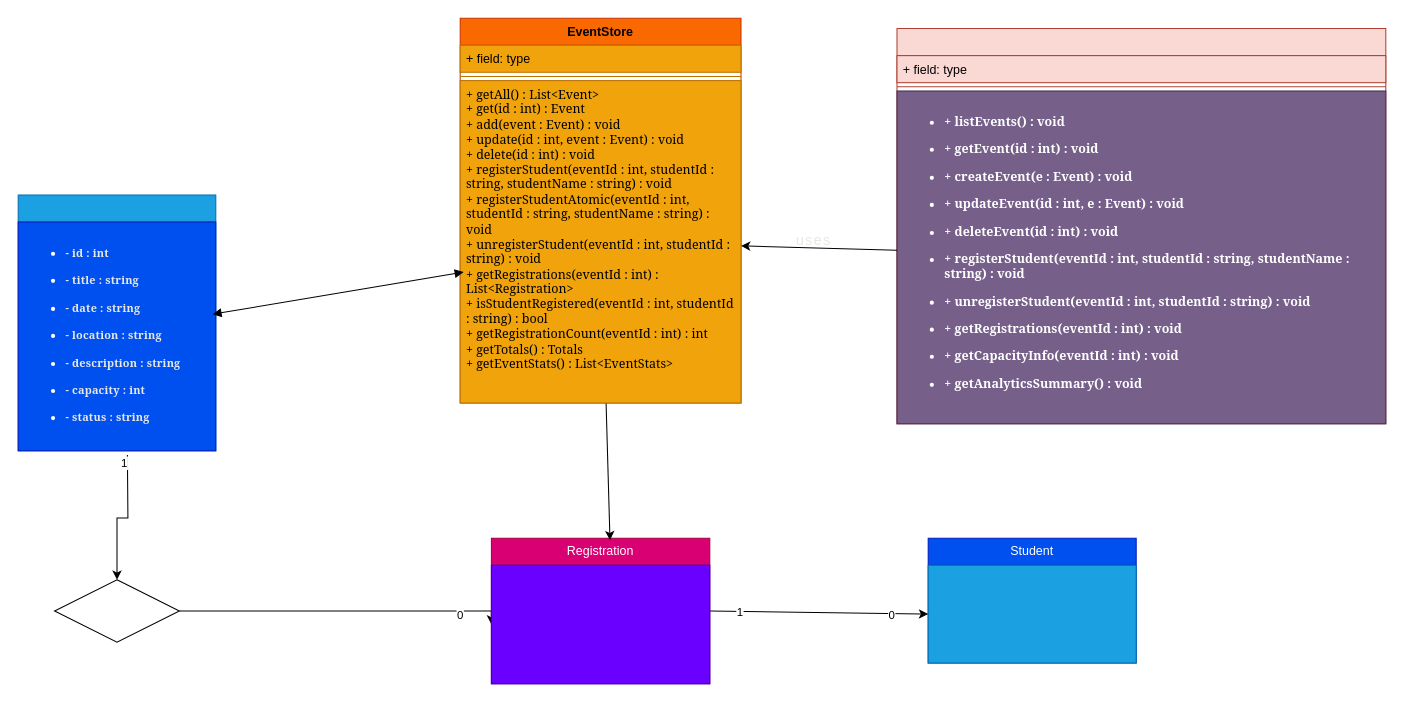
Image size: 1404x705. Some labels were removed from this diagram. Each missing label, with the box of its shape:
- registrationID : Int - registrationdate : string - status : string: (490, 564, 710, 684)
- studentID : Int - studentname : string: (927, 564, 1136, 663)
EVENT: (17, 194, 216, 451)
EventController: (896, 28, 1386, 424)
